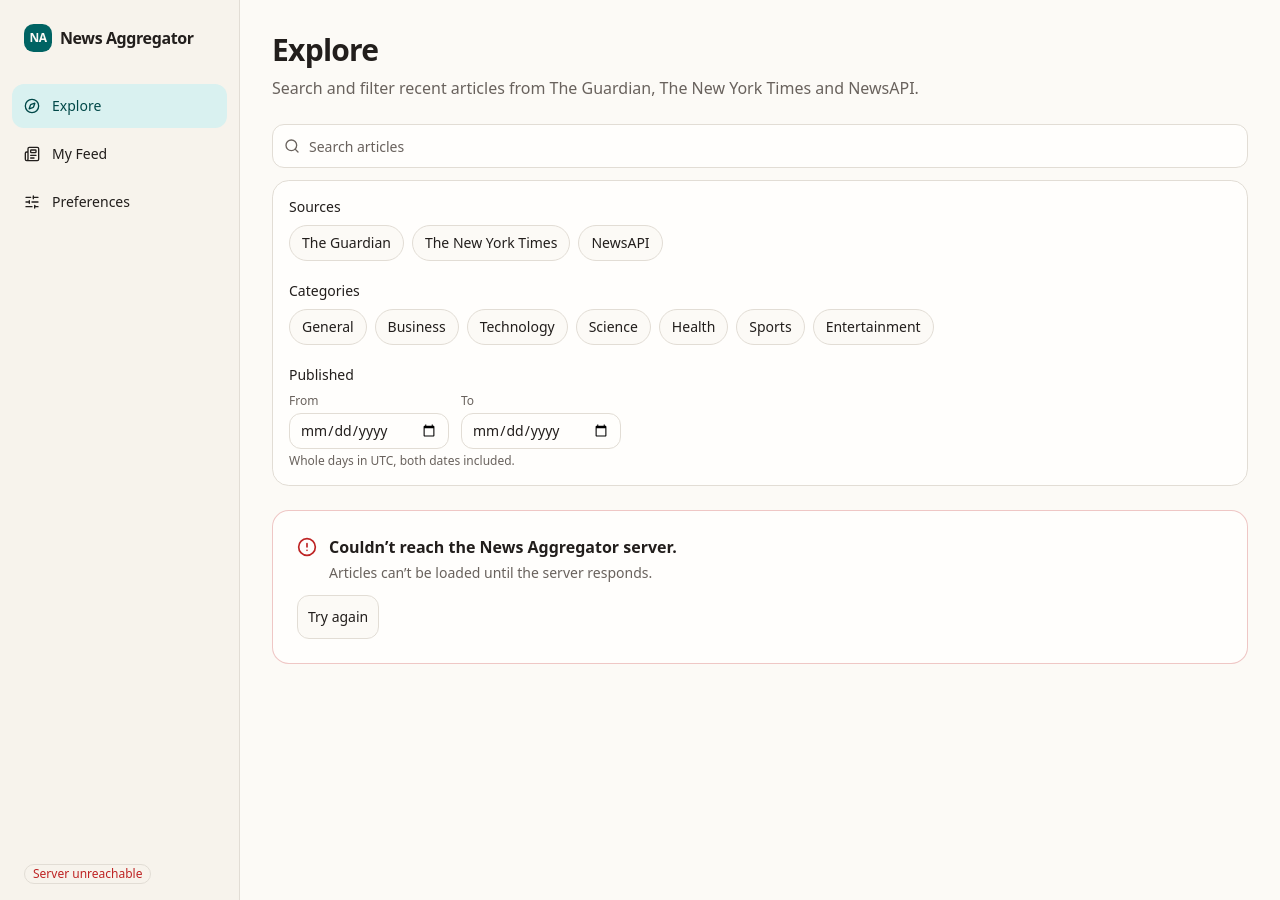
it: AppShell › navigates between pages from the main navigation
The image size is (1280, 900).
Click the link "My Feed" at (66, 154), box [24, 144, 107, 163]
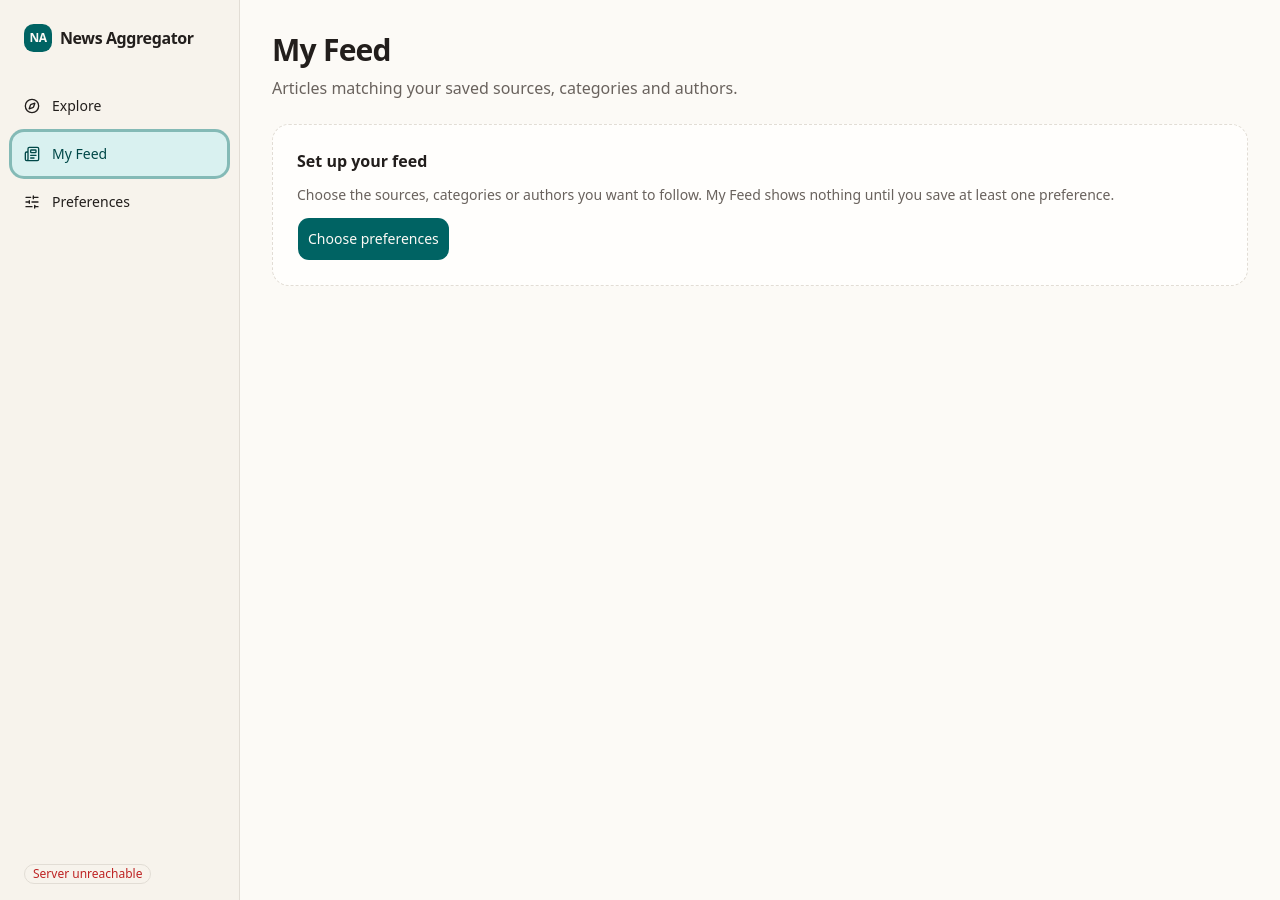
Expected: the heading "My Feed" is shown, [272, 29, 391, 70]
